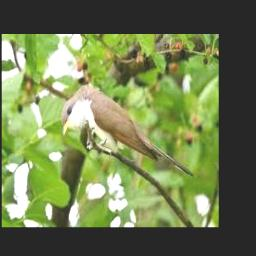Cuckoo: (63, 84, 194, 177)
